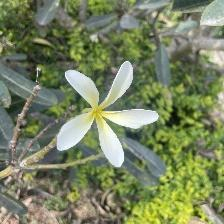champaka: (59, 61, 160, 174)
